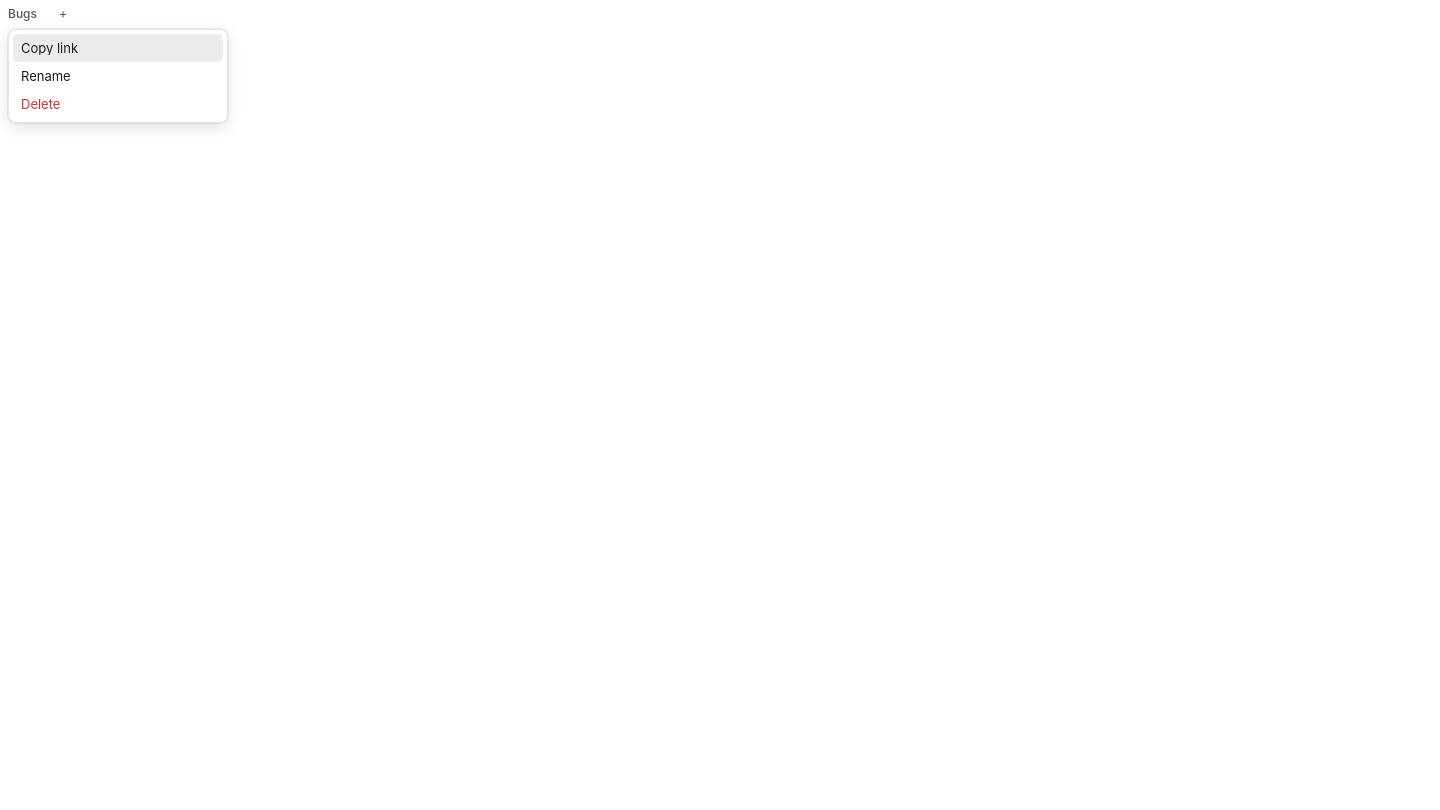
Scenario: project view tabs › says so when a rename is refused instead of leaving the tab unchanged
Click the menu item "Rename": (46, 76) [21, 68, 71, 84]
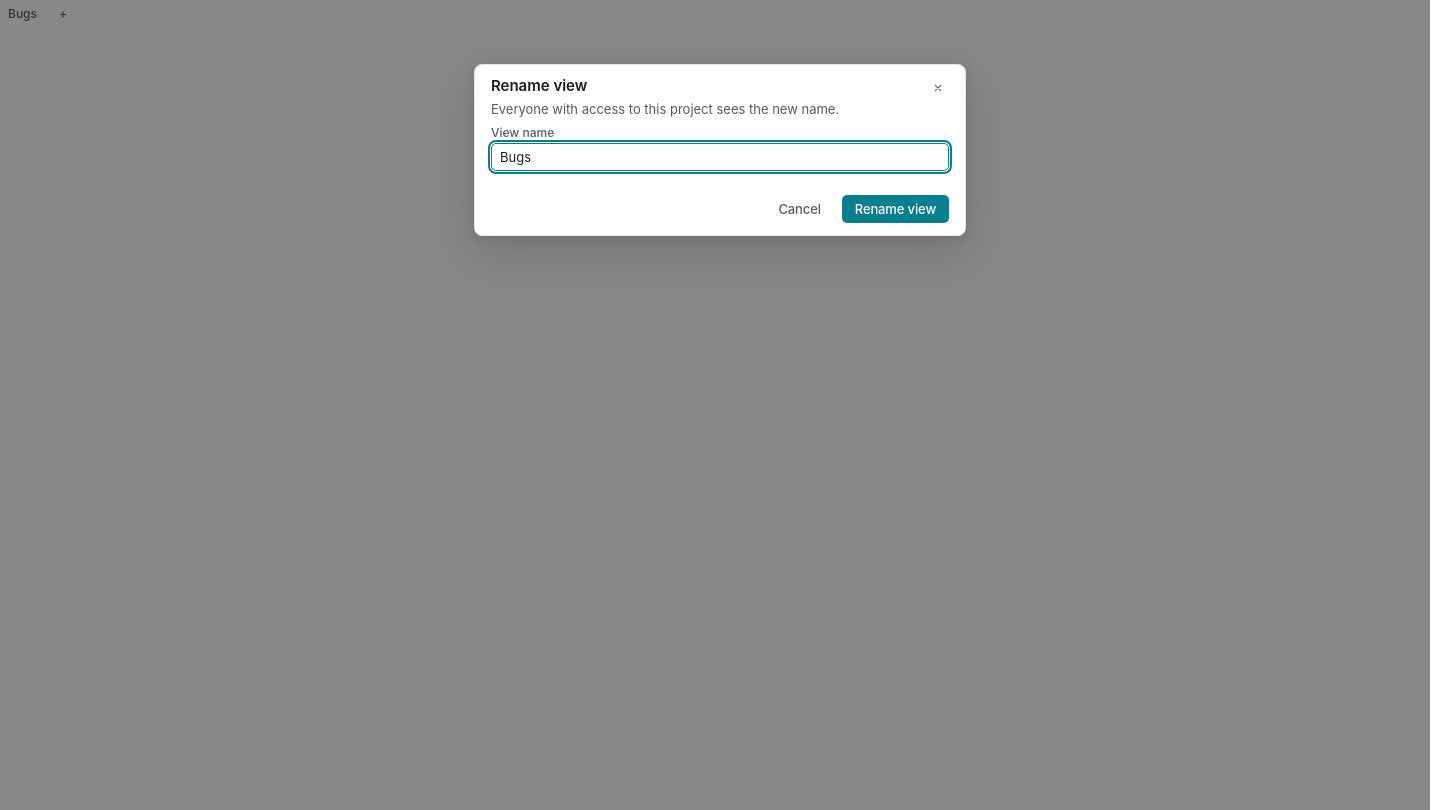
Replace the text in the field labelled "View name" with "Regressions": (720, 157) [500, 144, 940, 170]
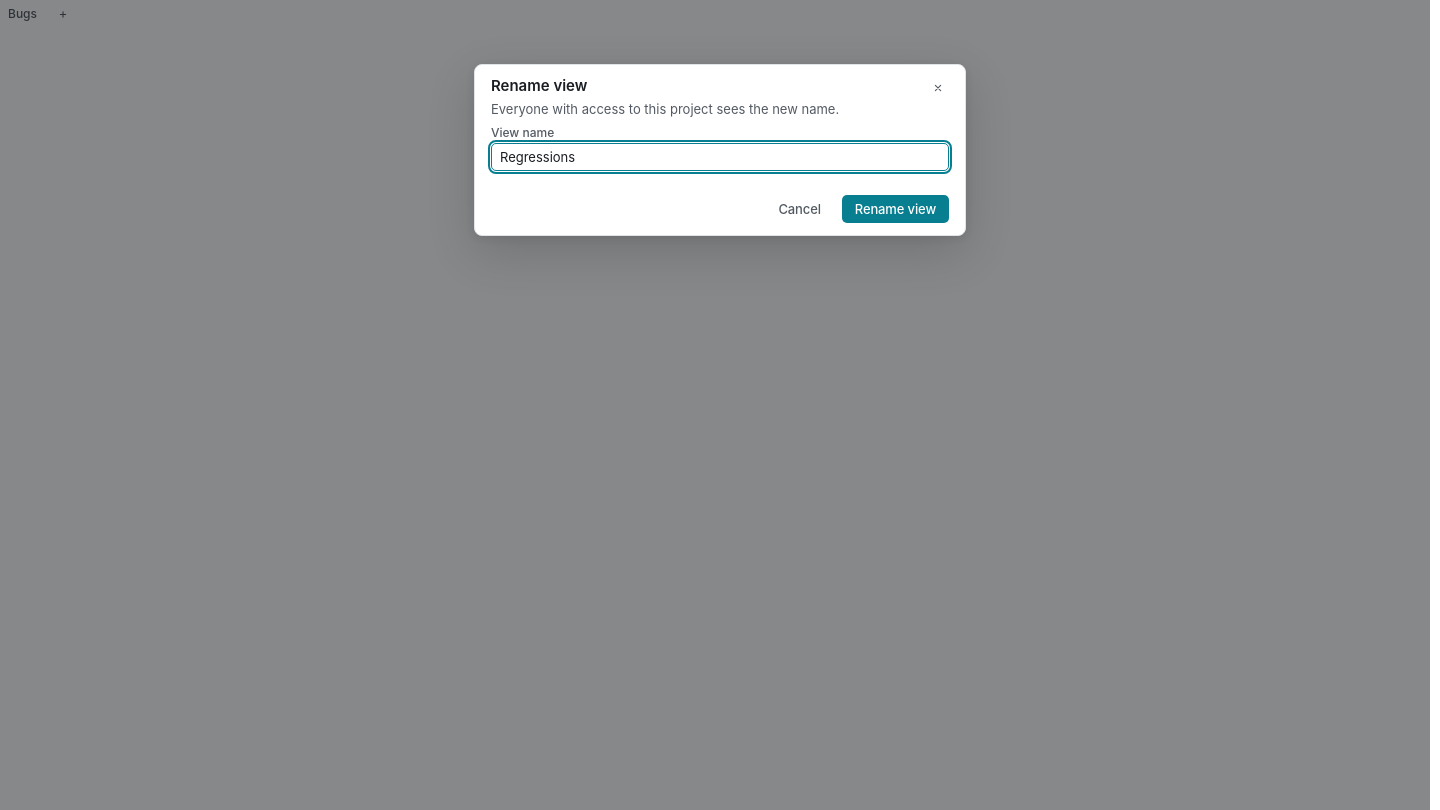
Click the button "Rename view": (895, 209) [842, 195, 949, 223]
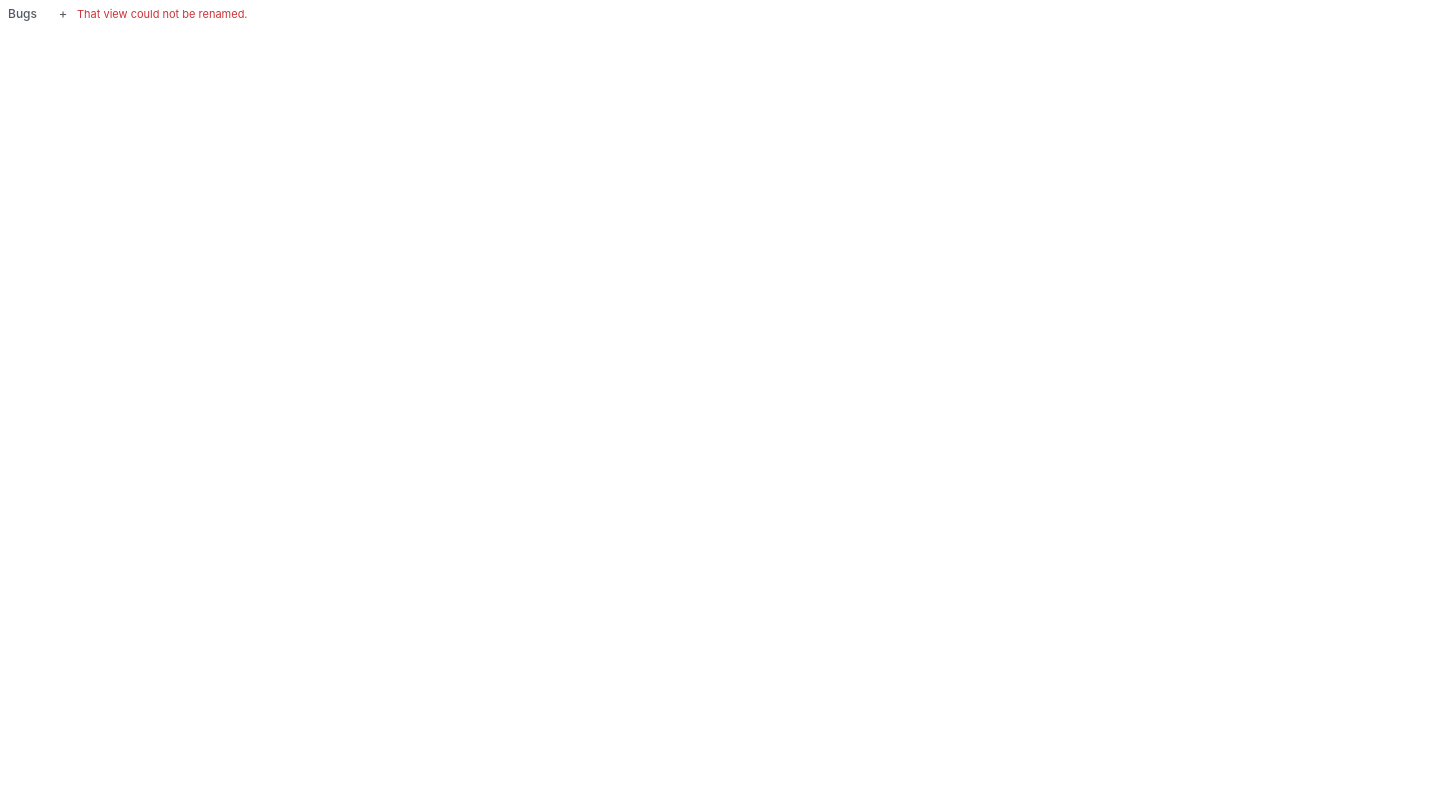
Expected: the message reads "That view could not be renamed.", [77, 7, 248, 21]
